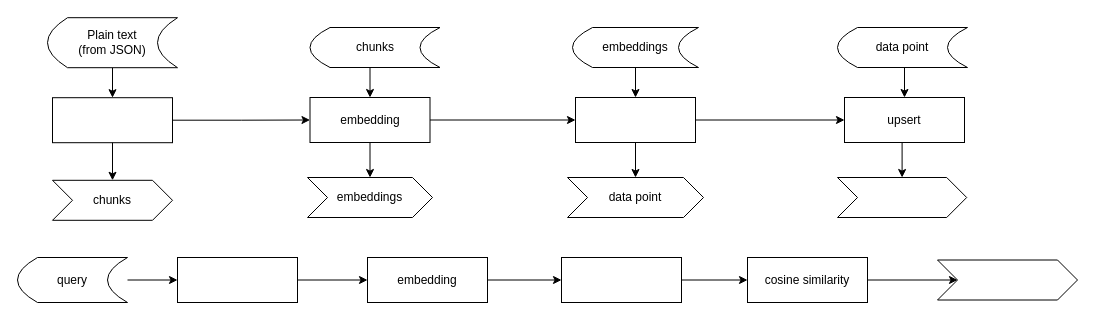
Image size: 1095x320. Some labels were removed from this diagram. The shapes that lost their labels are listed below. From the top down, each one's box as (x1, y1, x2, y2) in pixels, then its label:
(52, 97, 172, 143): chunk
(574, 96, 696, 142): construct data point
(836, 176, 967, 218): Vector Store
(176, 256, 298, 302): text preprocess
(560, 256, 682, 302): search
(936, 259, 1078, 300): first 3 relevent
